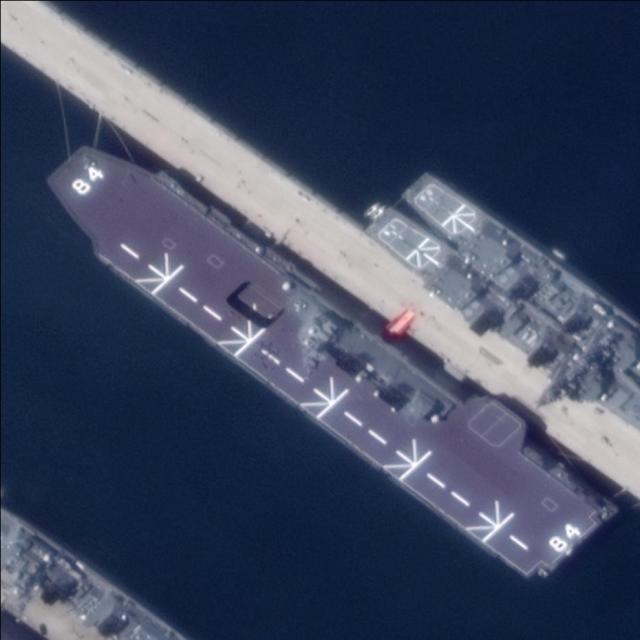Destroyer: (25, 118, 621, 602)
